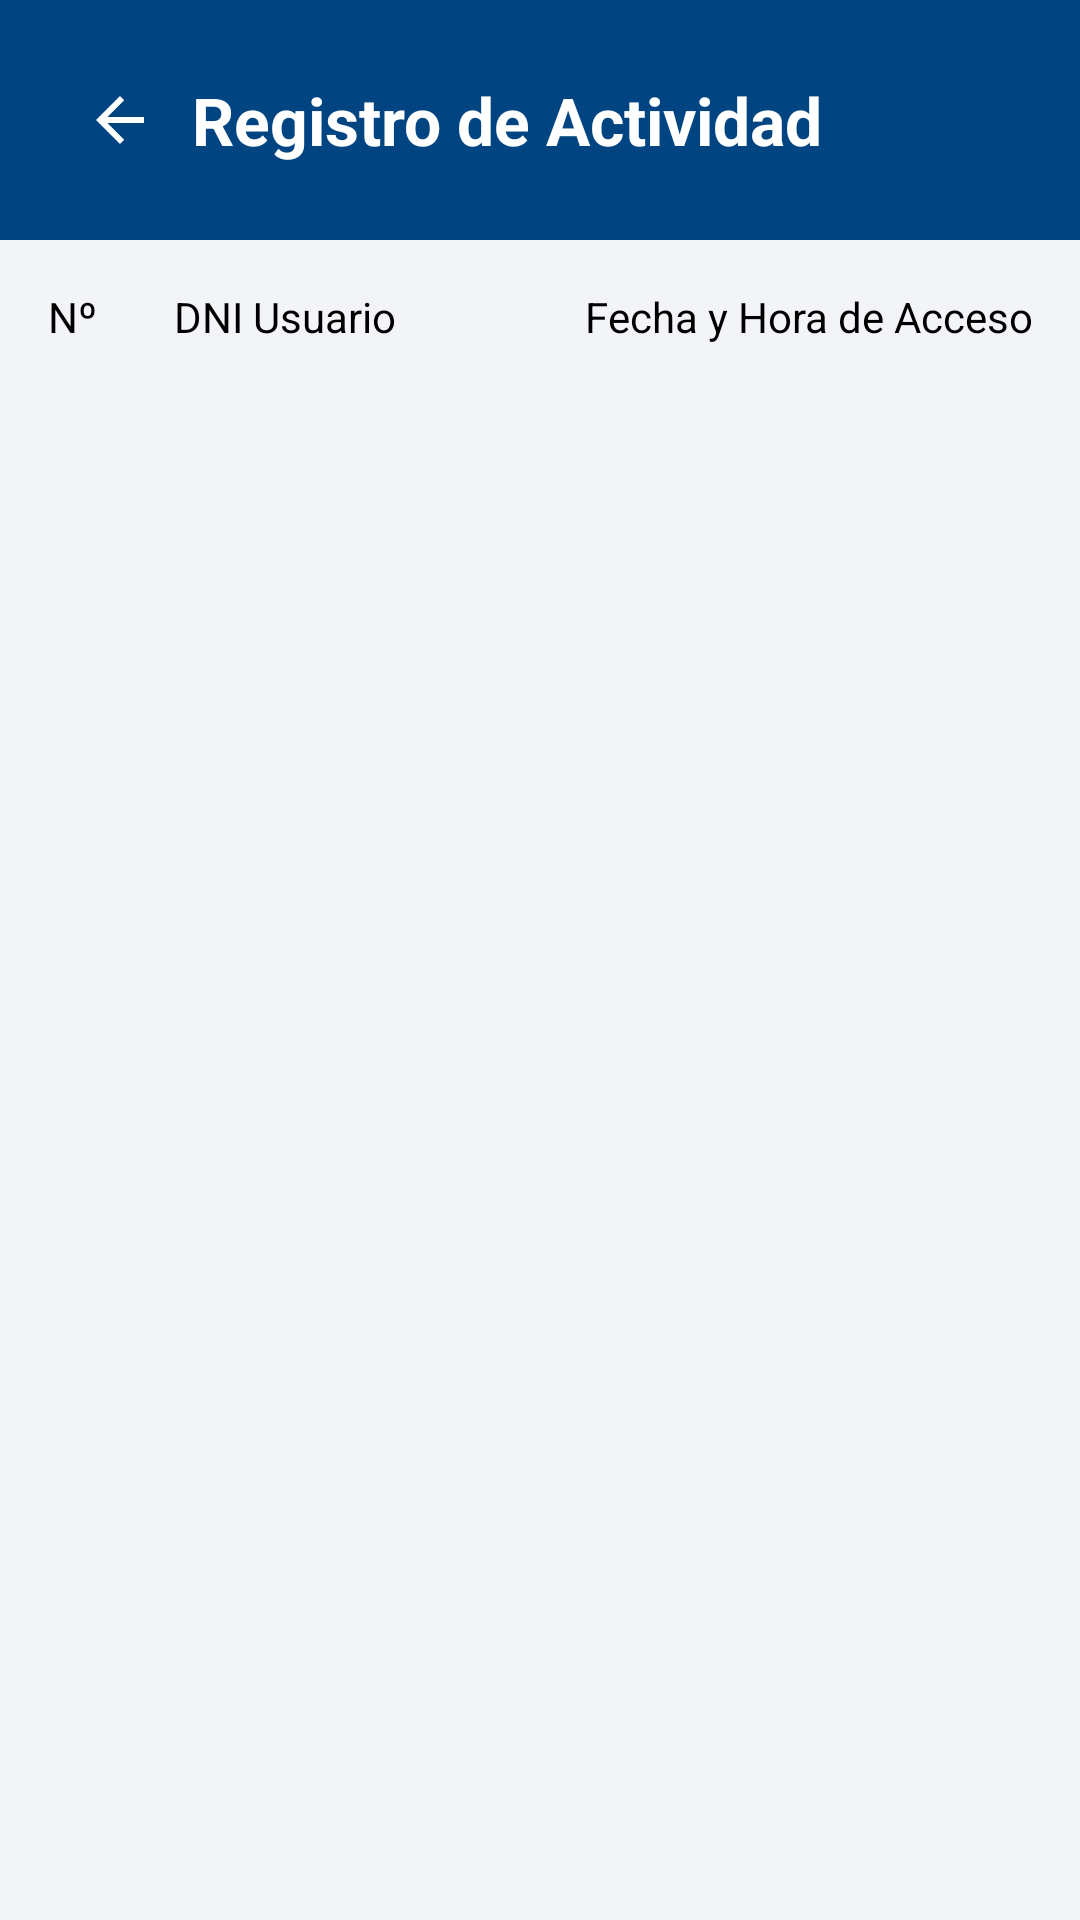

Named icons in this screenshot (1080 × 1920) and their centers, (x=x, y=y):
Volver: (x=120, y=120)
